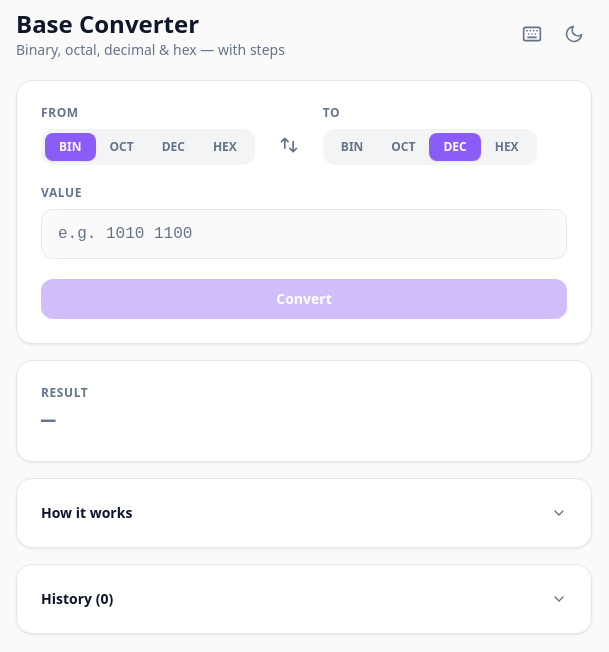
App › enables convert button with valid input
Step 1. Type "1010" into the field named "Value to convert" → x=304, y=234, box left=41, top=209, right=567, bottom=259
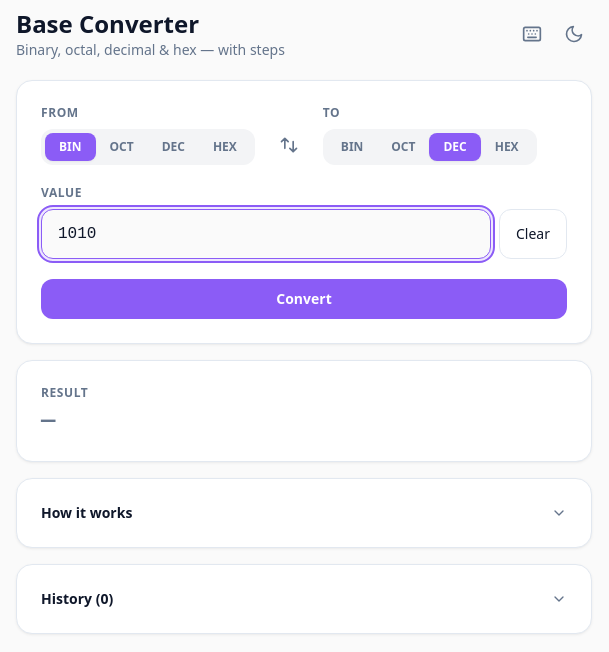
Check: the button "Convert" is enabled, box left=41, top=279, right=567, bottom=319
